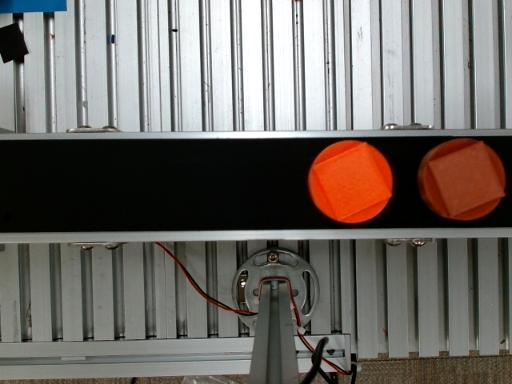Square: (313, 142, 393, 221), (429, 141, 507, 216)
